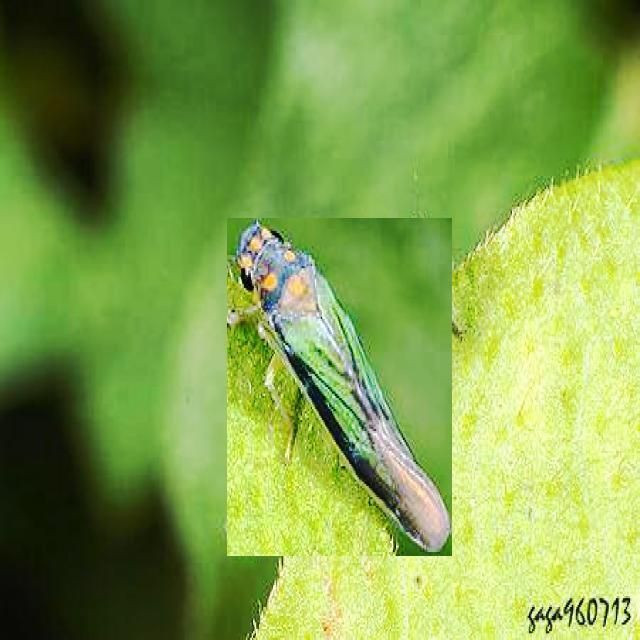green-leafhopper: (227, 218, 452, 556)
